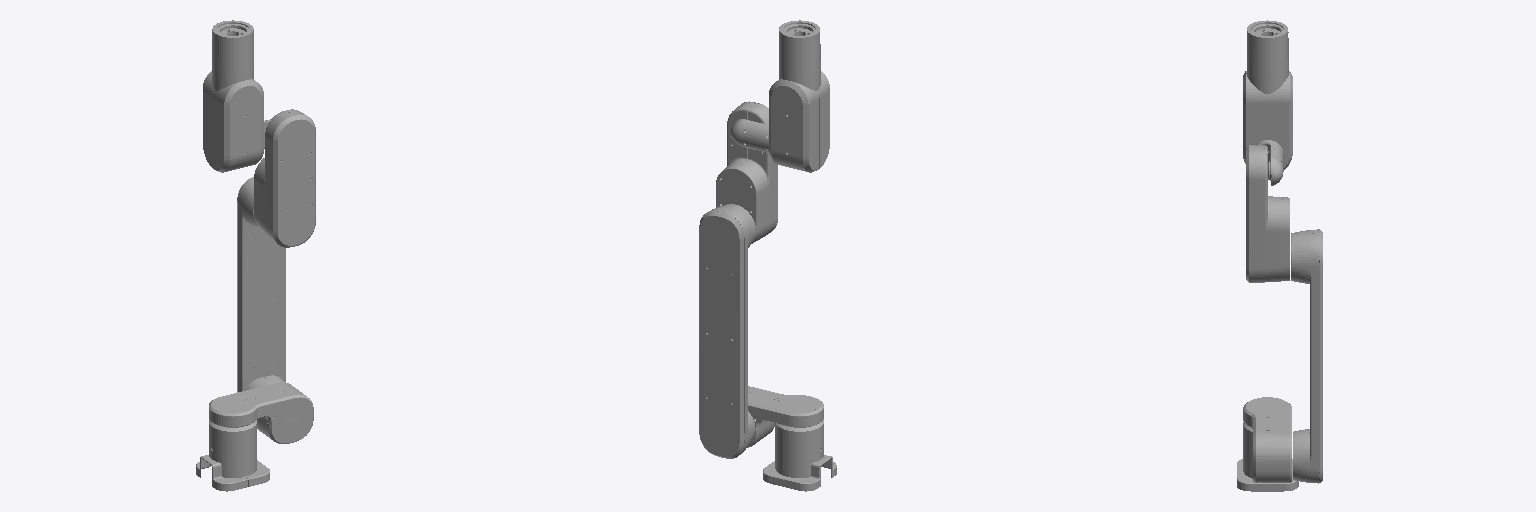
URDF robot description (spark2):
<?xml version="1.0" ?>
<!-- =================================================================================== -->
<!-- |    This document was autogenerated by xacro from arm_v2_obj.xacro               | -->
<!-- |    EDITING THIS FILE BY HAND IS NOT RECOMMENDED                                 | -->
<!-- =================================================================================== -->
<robot name="spark2">
  <mujoco>
    <compiler balanceinertia="true" discardvisual="false" meshdir="meshes"/>
  </mujoco>
  <material name="silver">
    <color rgba="0.700 0.700 0.700 1.000"/>
  </material>
  <link name="arm_base_link">
    <inertial>
      <origin rpy="0 -0 0" xyz="-2.2120147501030119e-05 3.8021109477495592e-05 0.058916921763942164"/>
      <mass value="0.8810661689456585"/>
      <inertia ixx="0.00081700000000000002" ixy="0" ixz="9.9999999999999995e-07" iyy="0.00081700000000000002" iyz="9.9999999999999995e-07" izz="0.00055900000000000004"/>
    </inertial>
    <visual>
      <origin rpy="0 -0 0" xyz="0 0 0"/>
      <geometry>
        <mesh filename="meshes/base_link.obj" scale="0.001 0.001 0.001"/>
      </geometry>
      <material name="silver"/>
    </visual>
    <collision>
      <origin rpy="0 -0 0" xyz="0 0 0"/>
      <geometry>
        <mesh filename="meshes/base_link.stl" scale="0.001 0.001 0.001"/>
      </geometry>
    </collision>
  </link>
  <link name="arm_L1">
    <inertial>
      <origin rpy="0 -0 0" xyz="0.083398040155232278 0.024092390966502224 0.0046766290966202828"/>
      <mass value="1.0366445476980894"/>
      <inertia ixx="0.00091399999999999999" ixy="-0.00031700000000000001" ixz="0.00027599999999999999" iyy="0.001539" iyz="0.000117" izz="0.0017210000000000001"/>
    </inertial>
    <visual>
      <origin rpy="0 -0 0" xyz="0 0 -0.084000000000000005"/>
      <geometry>
        <mesh filename="meshes/L1.obj" scale="0.001 0.001 0.001"/>
      </geometry>
      <material name="silver"/>
    </visual>
    <collision>
      <origin rpy="0 -0 0" xyz="0 0 -0.084000000000000005"/>
      <geometry>
        <mesh filename="meshes/L1.stl" scale="0.001 0.001 0.001"/>
      </geometry>
    </collision>
  </link>
  <link name="arm_L2">
    <inertial>
      <origin rpy="1.5707963267948966 -0 1.5707963267948966" xyz="0.25925220523219406 2.754807624848199e-05 0.054429110065566479"/>
      <mass value="1.506641024125369"/>
      <inertia ixx="0.0015430000000000001" ixy="-3.9999999999999998e-06" ixz="0.0027920000000000002" iyy="0.022436000000000001" iyz="-9.9999999999999995e-07" izz="0.02206"/>
    </inertial>
    <visual>
      <origin rpy="1.5707963267948966 -0 1.5707963267948966" xyz="-0.084000000000000005 -0.096000000000000002 0"/>
      <geometry>
        <mesh filename="meshes/L2.obj" scale="0.001 0.001 0.001"/>
      </geometry>
      <material name="silver"/>
    </visual>
    <collision>
      <origin rpy="1.5707963267948966 -0 1.5707963267948966" xyz="-0.084000000000000005 -0.096000000000000002 0"/>
      <geometry>
        <mesh filename="meshes/L2.stl" scale="0.001 0.001 0.001"/>
      </geometry>
    </collision>
  </link>
  <link name="arm_L3">
    <inertial>
      <origin rpy="1.5707963267948966 -0 1.5707963267948966" xyz="0.079826476252835121 1.430320514840544e-05 -0.0039247735242233144"/>
      <mass value="0.4975236595473459"/>
      <inertia ixx="0.00031300000000000002" ixy="0" ixz="0.000145" iyy="0.0013979999999999999" iyz="0" izz="0.0014519999999999999"/>
    </inertial>
    <visual>
      <origin rpy="1.5707963267948966 -0 1.5707963267948966" xyz="-0.43049999999999999 -0.096000000000000002 0"/>
      <geometry>
        <mesh filename="meshes/L3.obj" scale="0.001 0.001 0.001"/>
      </geometry>
      <material name="silver"/>
    </visual>
    <collision>
      <origin rpy="1.5707963267948966 -0 1.5707963267948966" xyz="-0.43049999999999999 -0.096000000000000002 0"/>
      <geometry>
        <mesh filename="meshes/L3.stl" scale="0.001 0.001 0.001"/>
      </geometry>
    </collision>
  </link>
  <link name="arm_L4">
    <inertial>
      <origin rpy="1.5707963267948966 -0 1.5707963267948966" xyz="-2.0433467473601752e-08 -0.031754373052680612 0.0073571864662786805"/>
      <mass value="0.05610708650016425"/>
      <inertia ixx="4.0000000000000003e-05" ixy="0" ixz="0" iyy="1.0000000000000001e-05" iyz="-3.9999999999999998e-06" izz="4.1e-05"/>
    </inertial>
    <visual>
      <origin rpy="1.5707963267948966 -0 1.5707963267948966" xyz="-0.58050000000000002 -0.096000000000000002 0"/>
      <geometry>
        <mesh filename="meshes/L4.obj" scale="0.001 0.001 0.001"/>
      </geometry>
      <material name="silver"/>
    </visual>
    <collision>
      <origin rpy="1.5707963267948966 -0 1.5707963267948966" xyz="-0.58050000000000002 -0.096000000000000002 0"/>
      <geometry>
        <mesh filename="meshes/L4.stl" scale="0.001 0.001 0.001"/>
      </geometry>
    </collision>
  </link>
  <link name="arm_L5">
    <inertial>
      <origin rpy="1.5707963267948966 1.5707963267948966 0" xyz="-2.3554451646168118e-06 -0.088888790749347635 -0.00097549898463300381"/>
      <mass value="0.7330014758686225"/>
      <inertia ixx="0.0031970000000000002" ixy="-3.0000000000000001e-06" ixz="0" iyy="0.000455" iyz="0.000126" izz="0.0032299999999999998"/>
    </inertial>
    <visual>
      <origin rpy="1.5707963267948966 1.5707963267948966 0" xyz="0 0.58050000000000002 0"/>
      <geometry>
        <mesh filename="meshes/L5.obj" scale="0.001 0.001 0.001"/>
      </geometry>
      <material name="silver"/>
    </visual>
    <collision>
      <origin rpy="1.5707963267948966 1.5707963267948966 0" xyz="0 0.58050000000000002 0"/>
      <geometry>
        <mesh filename="meshes/L5.stl" scale="0.001 0.001 0.001"/>
      </geometry>
    </collision>
  </link>
  <link name="arm_L6">
    <inertial>
      <origin rpy="0 -0 -1.5707963267948966" xyz="1.1997621315050149e-13 -9.9999999916333478e-05 -0.0060866244875072972"/>
      <mass value="0.049166120435743116"/>
      <inertia ixx="1.4e-05" ixy="0" ixz="0" iyy="1.4e-05" iyz="0" izz="2.8e-05"/>
    </inertial>
    <visual>
      <origin rpy="0 -0 -1.5707963267948966" xyz="0 0 -0.78049999999999997"/>
      <geometry>
        <mesh filename="meshes/L6.obj" scale="0.001 0.001 0.001"/>
      </geometry>
      <material name="silver"/>
    </visual>
    <collision>
      <origin rpy="0 -0 -1.5707963267948966" xyz="0 0 -0.78049999999999997"/>
      <geometry>
        <mesh filename="meshes/L6.stl" scale="0.001 0.001 0.001"/>
      </geometry>
    </collision>
  </link>
  <joint name="arm_J1" type="revolute">
    <origin rpy="0 0 0" xyz="0 0 0.084000000000000005"/>
    <parent link="arm_base_link"/>
    <child link="arm_L1"/>
    <axis xyz="0 0 1"/>
    <limit effort="100" lower="-3.141593" upper="3.141593" velocity="100"/>
  </joint>
  <joint name="arm_J2" type="revolute">
    <origin rpy="-1.5707963267948966 -1.5707963267948966 0" xyz="0.096000000000000002 0 0"/>
    <parent link="arm_L1"/>
    <child link="arm_L2"/>
    <axis xyz="0 0 1"/>
    <limit effort="100" lower="-1.570796" upper="1.570796" velocity="100"/>
  </joint>
  <joint name="arm_J3" type="revolute">
    <origin rpy="0 0 0" xyz="0.34649999999999997 0 0"/>
    <parent link="arm_L2"/>
    <child link="arm_L3"/>
    <axis xyz="0 0 1"/>
    <limit effort="100" lower="-3.141593" upper="3.141593" velocity="100"/>
  </joint>
  <joint name="arm_J4" type="revolute">
    <origin rpy="0 0 0" xyz="0.14999999999999999 0 0"/>
    <parent link="arm_L3"/>
    <child link="arm_L4"/>
    <axis xyz="0 0 1"/>
    <limit effort="100" lower="-0.349066" upper="3.141593" velocity="100"/>
  </joint>
  <joint name="arm_J5" type="revolute">
    <origin rpy="1.5707963267948966 -1.5707963267948966 0" xyz="0 -0.096000000000000002 0"/>
    <parent link="arm_L4"/>
    <child link="arm_L5"/>
    <axis xyz="0 0 1"/>
    <limit effort="100" lower="-3.141593" upper="3.141593" velocity="100"/>
  </joint>
  <joint name="arm_J6" type="revolute">
    <origin rpy="1.5707963267948966 0 0" xyz="0 -0.20000000000000001 0"/>
    <parent link="arm_L5"/>
    <child link="arm_L6"/>
    <axis xyz="0 0 1"/>
    <limit effort="100" lower="-6.2831853" upper="6.2831853" velocity="100"/>
  </joint>
  <link name="arm_end_effector">
        </link>
  <joint name="arm_J7" type="fixed">
    <origin rpy="0 0 0" xyz="0 0 0"/>
    <parent link="arm_L6"/>
    <child link="arm_end_effector"/>
  </joint>
</robot>

--- Render facts (derived) ---
Views: 3 orthographic renders of the robot side by side, from view 1: azimuth 30°, elevation 25°; view 2: azimuth 150°, elevation 25°; view 3: azimuth 270°, elevation 25°.
Robot: spark2 — 8 links, 7 joints (6 revolute, 1 fixed); root link arm_base_link; default pose: all joints at 0.
Visible links, largest first — view 1: arm_L2, arm_L5, arm_L3, arm_L1, arm_base_link; view 2: arm_L2, arm_L5, arm_L3, arm_base_link, arm_L1, arm_L4; view 3: arm_L5, arm_L2, arm_L3, arm_L1, arm_base_link, arm_L4.
Link boxes in pixels (bbox=[...]): arm_L2: bbox=[237, 177, 285, 392]; arm_L5: bbox=[203, 20, 263, 172]; arm_L3: bbox=[254, 109, 315, 247]; arm_L1: bbox=[209, 382, 313, 443]; arm_base_link: bbox=[196, 420, 269, 491]; arm_L2: bbox=[699, 204, 755, 458]; arm_L5: bbox=[769, 20, 829, 172]; arm_L3: bbox=[716, 101, 777, 243]; arm_base_link: bbox=[763, 419, 836, 491]; arm_L1: bbox=[747, 386, 823, 447]; arm_L4: bbox=[731, 119, 768, 152]; arm_L5: bbox=[1243, 20, 1292, 169]; arm_L2: bbox=[1291, 229, 1322, 483]; arm_L3: bbox=[1246, 145, 1289, 282]; arm_L1: bbox=[1243, 397, 1291, 482]; arm_base_link: bbox=[1237, 422, 1298, 491]; arm_L4: bbox=[1256, 140, 1283, 185].
Size in the robot's own frame: 0.1863 by 0.1369 by 0.7827 metres.
Meshes: 7 distinct files referenced, 7 mesh visuals loaded (7 OBJ).
